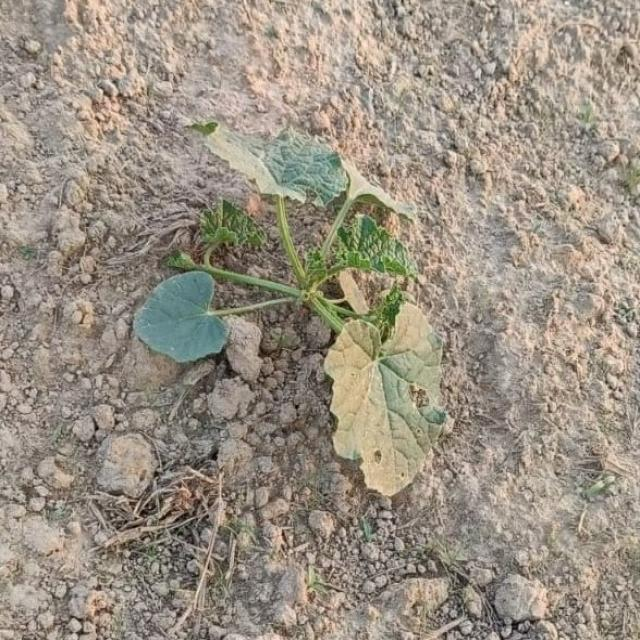plant: (134, 123, 448, 495)
